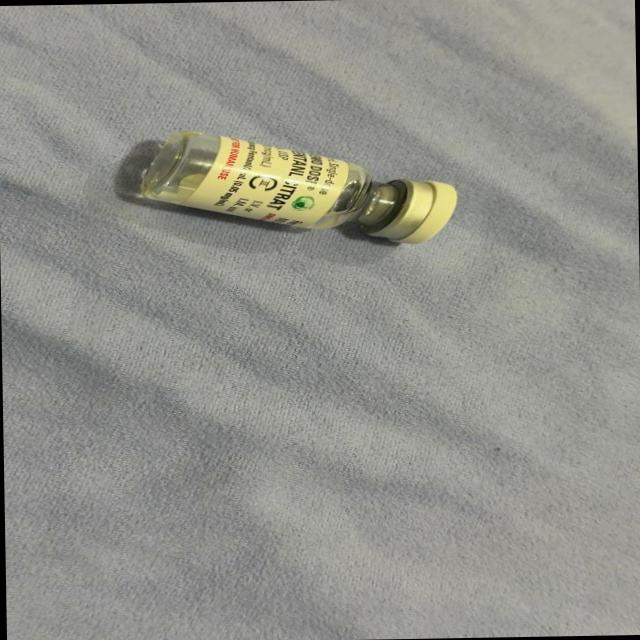fentanl_citrat: (126, 126, 450, 246)
